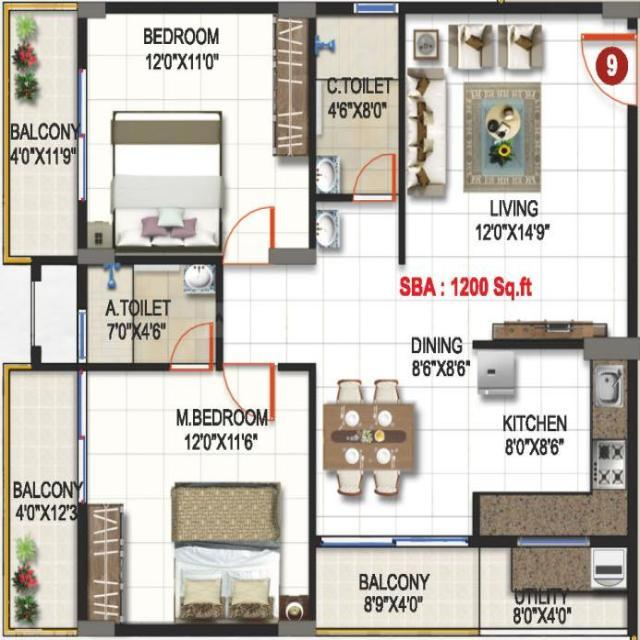Balcony-Sitout: (3, 363, 73, 640), (310, 536, 480, 639)
Bedroom: (75, 2, 316, 266)
Bedroom with Toilet: (78, 261, 313, 638)
Dining: (318, 376, 419, 504)
Kitchen: (471, 339, 640, 548)
Living: (400, 6, 637, 261)
Toilet: (305, 5, 403, 204), (75, 257, 224, 368)
Utility: (476, 537, 639, 640)
